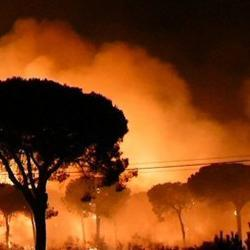fire: (132, 153, 163, 181), (70, 216, 90, 245), (1, 162, 10, 186)
